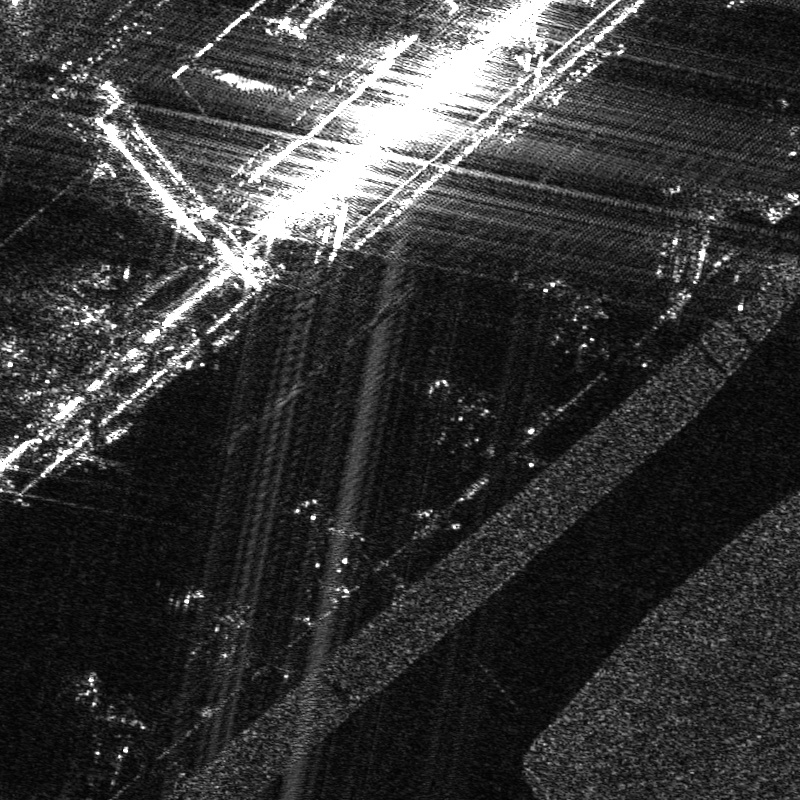Boeing737: (759, 91, 799, 164)
Boeing787: (68, 660, 161, 764)
other: (284, 479, 381, 587), (165, 579, 265, 674), (413, 363, 507, 462), (532, 272, 624, 365)
